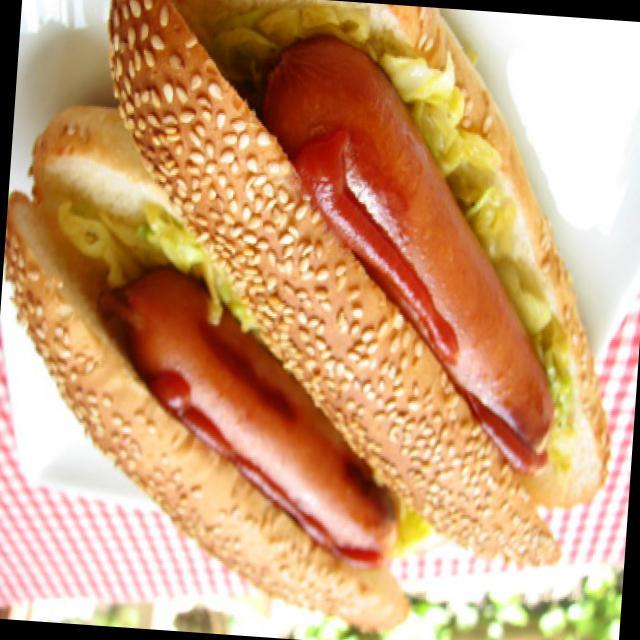Hot Dog: (66, 0, 616, 549), (0, 217, 430, 610)
